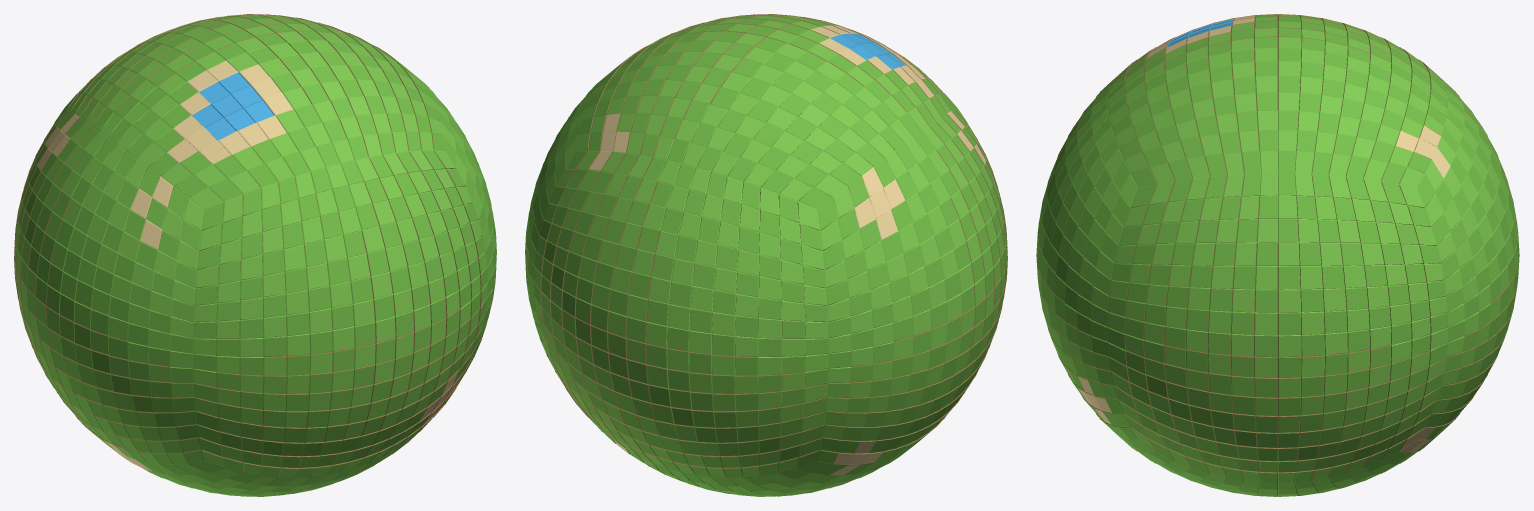
Rendered from globe.glb.
3 renders of one model, left to right at view 1: azimuth 30°, elevation 25°; view 2: azimuth 150°, elevation 25°; view 3: azimuth 270°, elevation 25°, orthographic.
Parts seen in each view (by area): view 1: Globe; view 2: Globe; view 3: Globe.
Boxes of the visible parts, x1,y1,x2,y2 form: Globe: [14, 14, 496, 496]; Globe: [525, 14, 1007, 496]; Globe: [1036, 14, 1519, 496].
Bounding box in the file's own units: 40.12 × 40.12 × 40.12.
